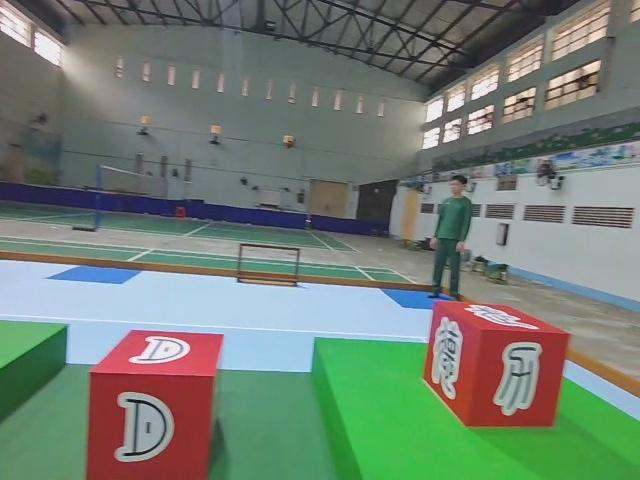R2 Fake: (421, 297, 573, 431)
R2 Real: (83, 326, 226, 480)
